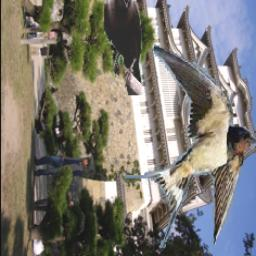Crow: (104, 0, 143, 95)
Swallow: (124, 44, 255, 248)
